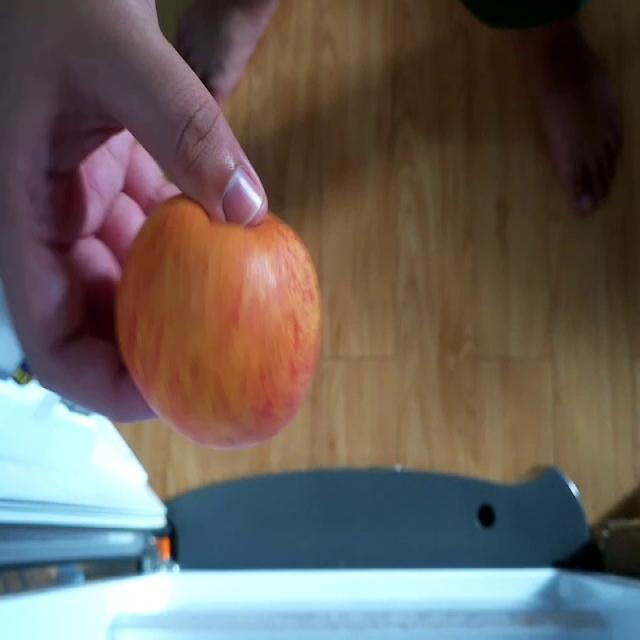apple: (110, 195, 316, 449)
